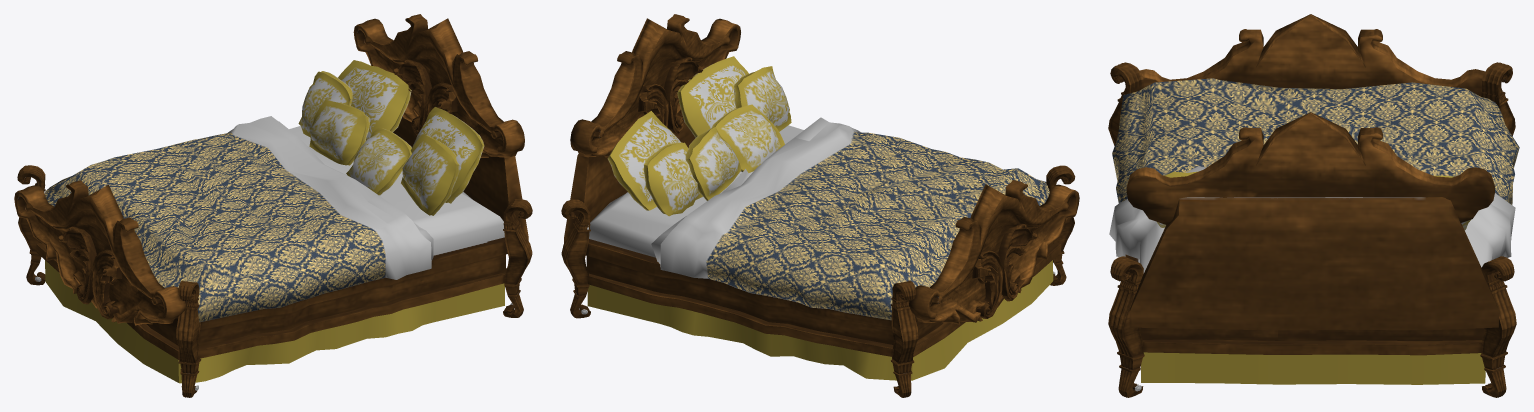
File: Victorian Bed.glb
3 renders of one model, left to right at view 1: azimuth 30°, elevation 25°; view 2: azimuth 150°, elevation 25°; view 3: azimuth 270°, elevation 25°, orthographic. The views are drawn at different scales.
Visible parts, largest first — view 1: camaDormitorio_0008:camaPrincipal, camaDormitorio_0008:cabecero2, camaDormitorio_0008:cabecero1, camaDormitorio_0008:almohada, camaDormitorio_0008:almohada1, camaDormitorio_0008:almohada4, camaDormitorio_0008:almohada2, camaDormitorio_0008:almohada3, moldurasArmario11, moldurasArmario9, camaDormitorio_0008:almohada5, adornoParedDerecho2 (+4 smaller); view 2: camaDormitorio_0008:camaPrincipal, camaDormitorio_0008:cabecero2, camaDormitorio_0008:cabecero1, camaDormitorio_0008:almohada3, camaDormitorio_0008:almohada, camaDormitorio_0008:almohada5, camaDormitorio_0008:almohada2, camaDormitorio_0008:almohada4, moldurasArmario10, moldurasArmario12, camaDormitorio_0008:almohada1, adornoParedIzquierdo2 (+4 smaller); view 3: camaDormitorio_0008:camaPrincipal, camaDormitorio_0008:cabecero1, camaDormitorio_0008:cabecero2, moldurasArmario11, moldurasArmario12, moldurasArmario10, moldurasArmario9.
Boxes of the visible parts, left/top/right/bottom form: camaDormitorio_0008:camaPrincipal: left=36, top=116, right=528, bottom=383; camaDormitorio_0008:cabecero2: left=14, top=180, right=185, bottom=325; camaDormitorio_0008:cabecero1: left=353, top=14, right=524, bottom=157; camaDormitorio_0008:almohada: left=338, top=60, right=411, bottom=140; camaDormitorio_0008:almohada1: left=401, top=134, right=459, bottom=215; camaDormitorio_0008:almohada4: left=309, top=100, right=369, bottom=165; camaDormitorio_0008:almohada2: left=346, top=127, right=411, bottom=195; camaDormitorio_0008:almohada3: left=412, top=107, right=484, bottom=203; moldurasArmario11: left=503, top=199, right=532, bottom=317; moldurasArmario9: left=176, top=280, right=201, bottom=397; camaDormitorio_0008:almohada5: left=298, top=71, right=352, bottom=137; adornoParedDerecho2: left=91, top=249, right=122, bottom=319; camaDormitorio_0008:camaPrincipal: left=564, top=117, right=1061, bottom=380; camaDormitorio_0008:cabecero2: left=908, top=180, right=1079, bottom=324; camaDormitorio_0008:cabecero1: left=570, top=14, right=740, bottom=157; camaDormitorio_0008:almohada3: left=677, top=56, right=748, bottom=137; camaDormitorio_0008:almohada: left=607, top=111, right=680, bottom=210; camaDormitorio_0008:almohada5: left=644, top=142, right=702, bottom=216; camaDormitorio_0008:almohada2: left=711, top=104, right=784, bottom=172; camaDormitorio_0008:almohada4: left=685, top=126, right=741, bottom=200; moldurasArmario10: left=891, top=280, right=918, bottom=397; moldurasArmario12: left=561, top=199, right=590, bottom=318; camaDormitorio_0008:almohada1: left=734, top=66, right=791, bottom=131; adornoParedIzquierdo2: left=972, top=249, right=1003, bottom=318; camaDormitorio_0008:camaPrincipal: left=1109, top=78, right=1519, bottom=384; camaDormitorio_0008:cabecero1: left=1126, top=112, right=1494, bottom=224; camaDormitorio_0008:cabecero2: left=1140, top=14, right=1484, bottom=96; moldurasArmario11: left=1108, top=256, right=1144, bottom=397; moldurasArmario12: left=1480, top=256, right=1516, bottom=397; moldurasArmario10: left=1481, top=62, right=1515, bottom=135; moldurasArmario9: left=1108, top=62, right=1143, bottom=145.
Bounding box in the file's own units: 1259 × 763 × 991.
Materials: 1 (1 with a texture image).
